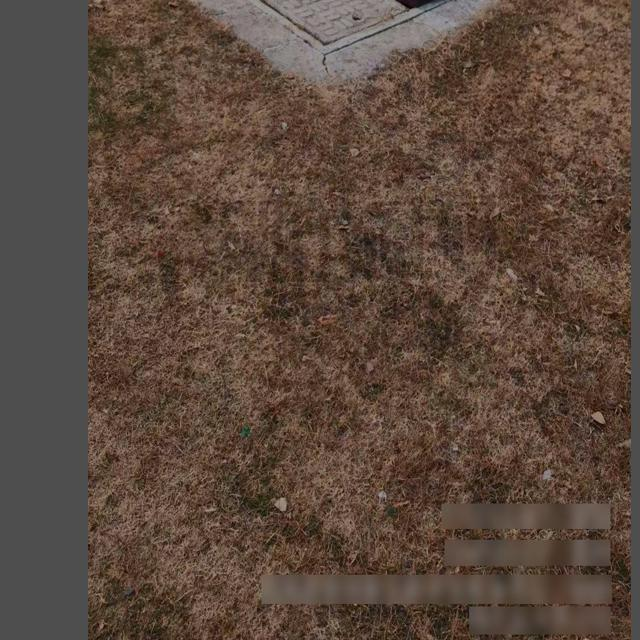uncovered: (218, 0, 491, 56)
